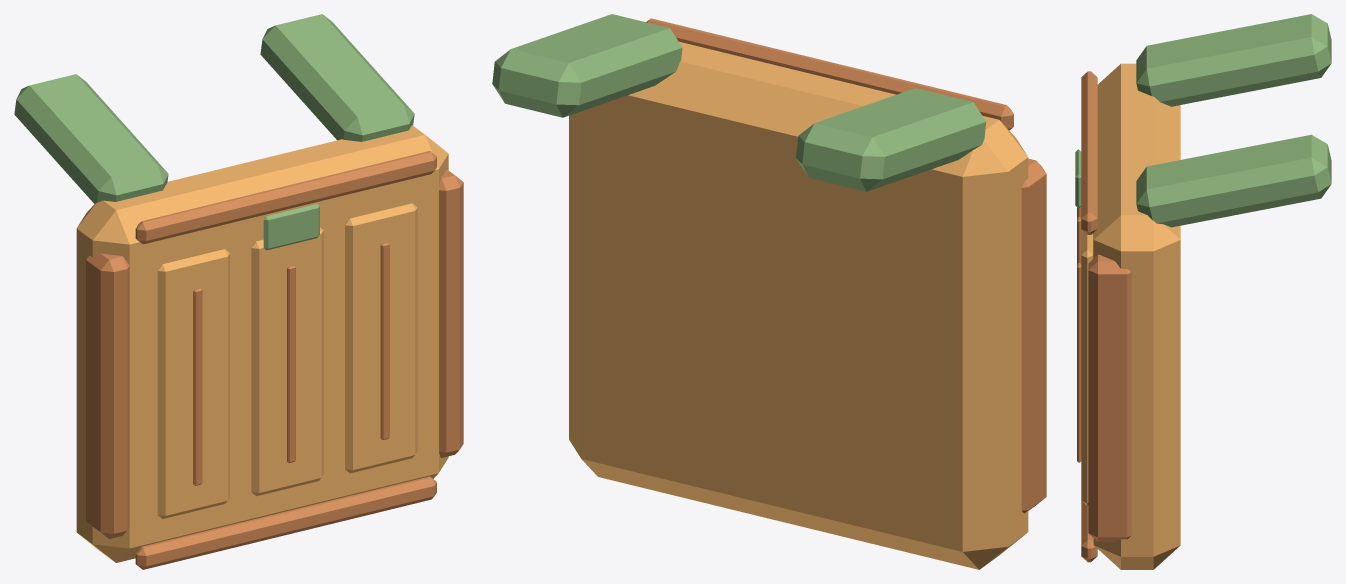
Rendered from PumpkinChestArmor.glb.
3 renders of one model, left to right at view 1: azimuth 30°, elevation 25°; view 2: azimuth 150°, elevation 25°; view 3: azimuth 270°, elevation 25°, orthographic. The views are drawn at different scales.
Visible parts, largest first — view 1: ChestShell, PumpkinLobe_00, PumpkinLobe_02, PumpkinLobe_01, ChestSideWrap_L, ChestShoulderAnchor_L, ChestShoulderAnchor_R, ChestBottomRim, ChestTopRim, ChestSideWrap_R, PumpkinCrownPlate, PumpkinGroove_02 (+2 smaller); view 2: ChestShell, ChestShoulderAnchor_L, ChestShoulderAnchor_R, ChestSideWrap_L, ChestTopRim; view 3: ChestShell, ChestShoulderAnchor_R, ChestShoulderAnchor_L, ChestSideWrap_R, ChestTopRim, PumpkinLobe_02, PumpkinGroove_02, ChestBottomRim, PumpkinCrownPlate.
Part boxes in pixels (x1,y1,x2,y2): ChestShell: (76, 125, 448, 562); PumpkinLobe_00: (157, 249, 229, 518); PumpkinLobe_02: (345, 203, 417, 473); PumpkinLobe_01: (251, 227, 323, 496); ChestSideWrap_L: (86, 253, 129, 538); ChestShoulderAnchor_L: (14, 74, 168, 204); ChestShoulderAnchor_R: (260, 14, 414, 141); ChestBottomRim: (135, 476, 436, 569); ChestTopRim: (135, 151, 436, 244); ChestSideWrap_R: (439, 169, 463, 457); PumpkinCrownPlate: (263, 204, 319, 250); PumpkinGroove_02: (380, 242, 389, 439); ChestShell: (569, 41, 1028, 569); ChestShoulderAnchor_L: (796, 88, 986, 191); ChestShoulderAnchor_R: (492, 14, 682, 117); ChestSideWrap_L: (1021, 158, 1046, 513); ChestTopRim: (646, 18, 1013, 130); ChestShell: (1093, 63, 1180, 569); ChestShoulderAnchor_R: (1136, 134, 1331, 227); ChestShoulderAnchor_L: (1136, 14, 1331, 106); ChestSideWrap_R: (1088, 254, 1131, 541); ChestTopRim: (1081, 71, 1097, 234); PumpkinLobe_02: (1081, 229, 1093, 505); PumpkinGroove_02: (1077, 263, 1081, 462); ChestBottomRim: (1081, 501, 1097, 562); PumpkinCrownPlate: (1075, 149, 1081, 208).
Size of the model in its own units: 0.775 by 0.8288 by 0.4717.
